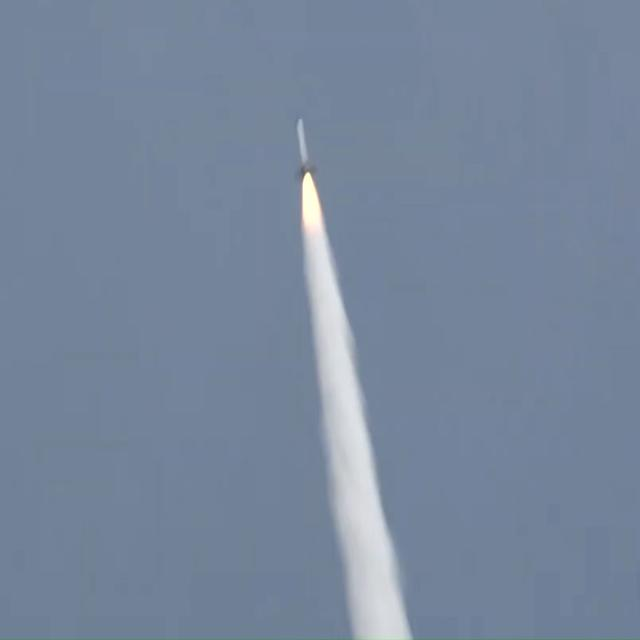Rocket: (297, 113, 312, 176)
